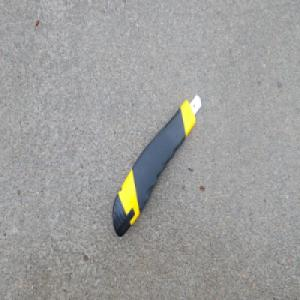Cutter: (111, 91, 203, 237)
